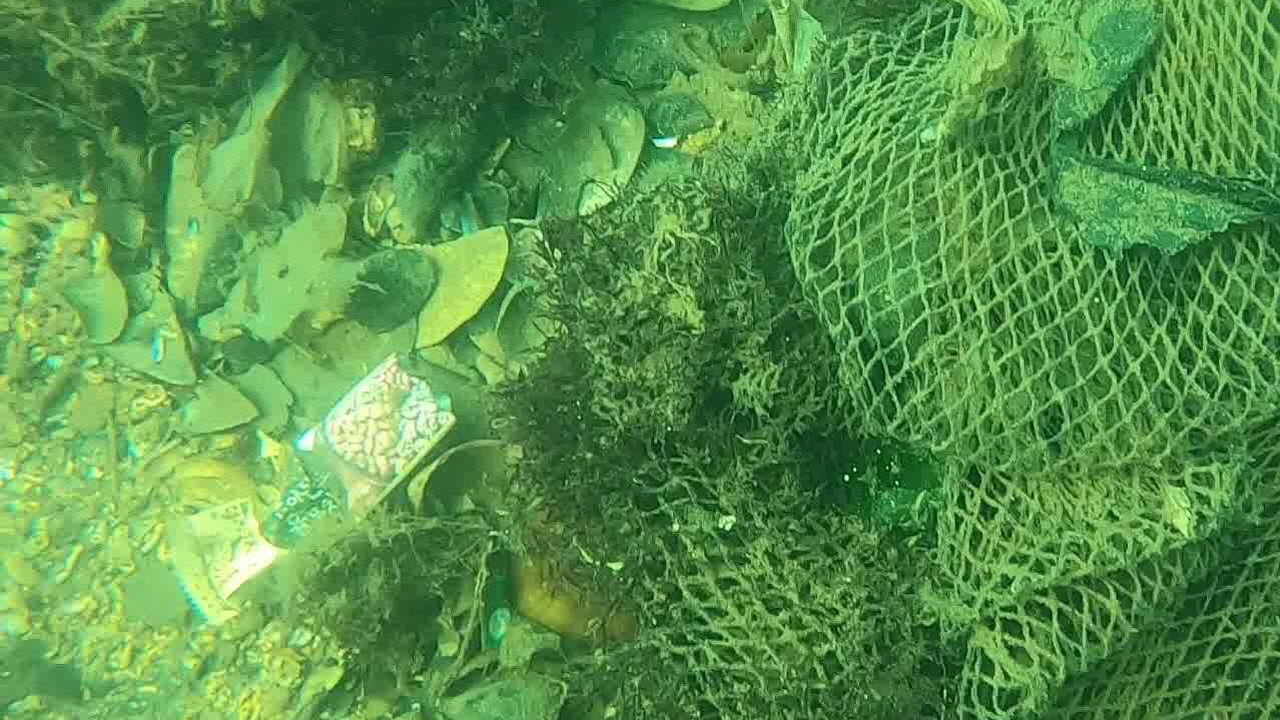fish net: (604, 4, 1280, 720)
